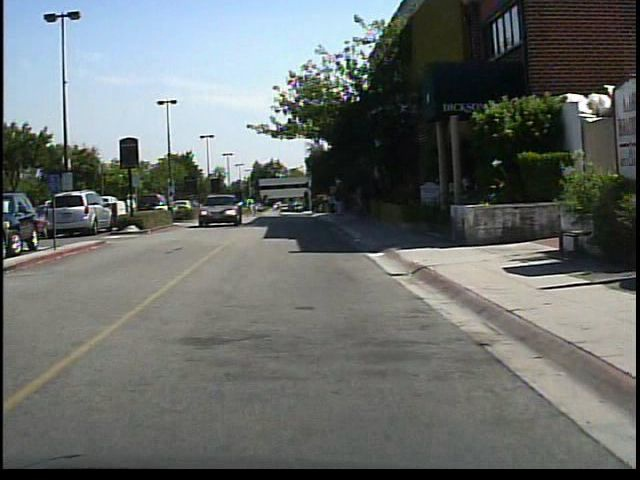person: (161, 188, 181, 226), (125, 192, 140, 228), (125, 190, 137, 230), (245, 192, 260, 223), (342, 180, 343, 218)
